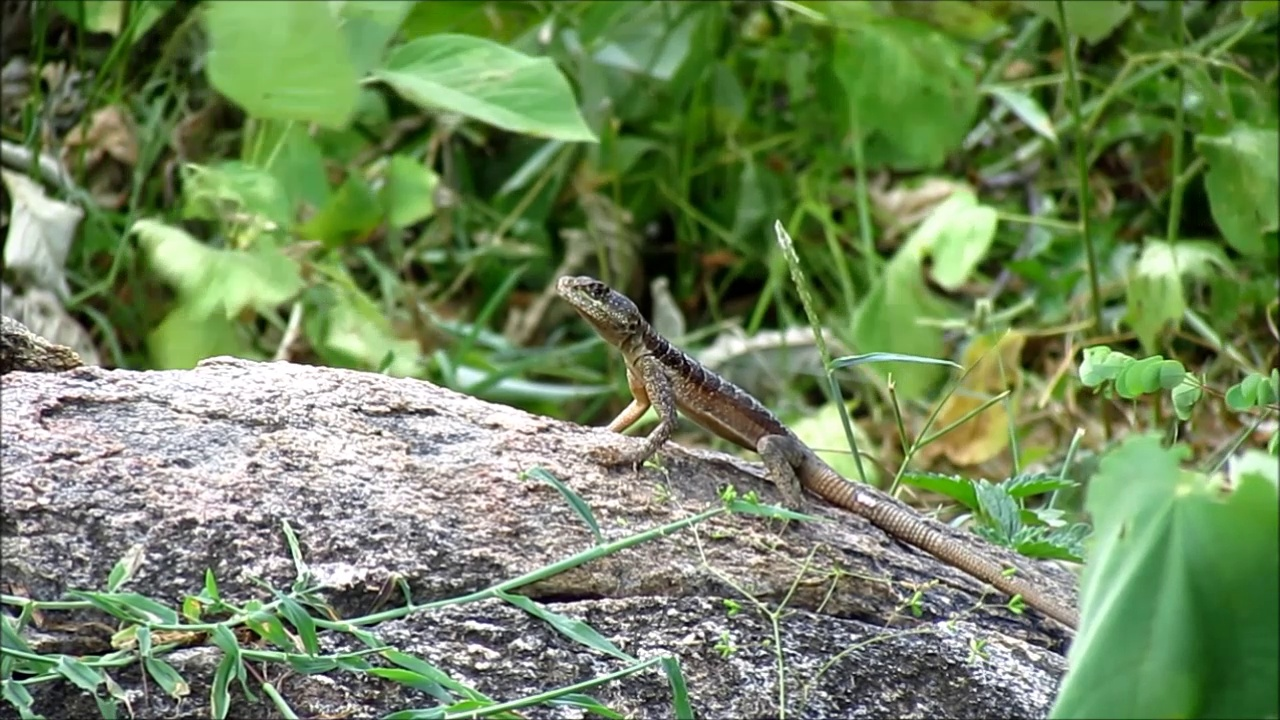body: (591, 317, 1077, 630)
head: (556, 276, 639, 342)
